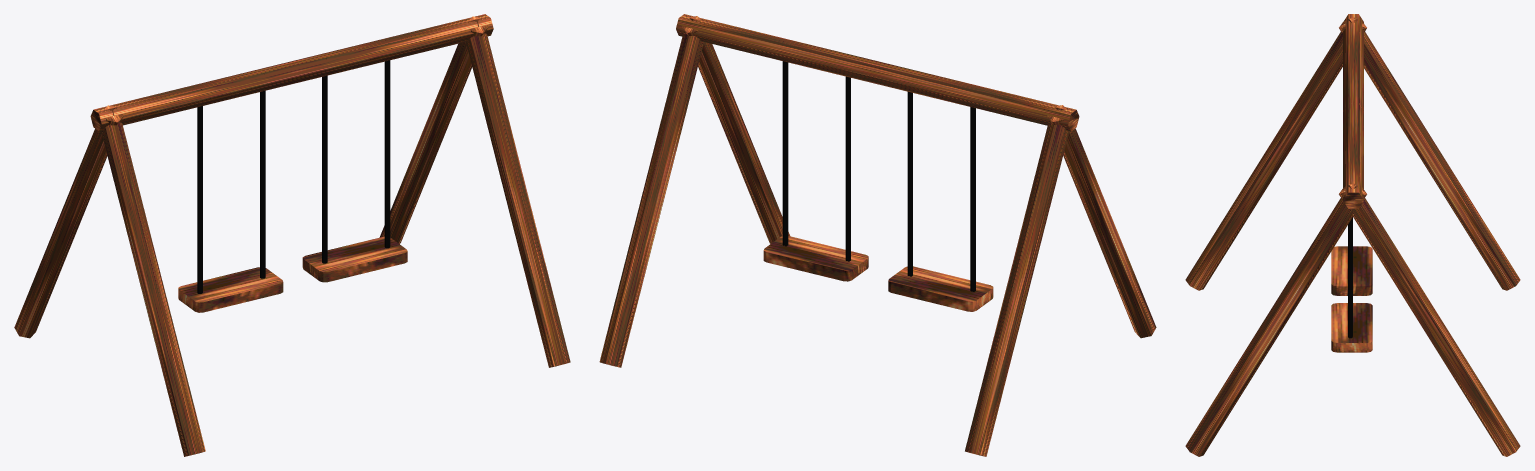
The model's file is SwingSet.fbx.
The picture shows the model from 3 angles, left to right: view 1: azimuth 30°, elevation 25°; view 2: azimuth 150°, elevation 25°; view 3: azimuth 270°, elevation 25°; orthographic projection. The views are drawn at different scales.
Parts seen in each view (by area): view 1: SwingSet; view 2: SwingSet; view 3: SwingSet.
Part boxes in pixels (box(x1,y1,x2,y2)): SwingSet: box(14, 14, 570, 456); SwingSet: box(599, 14, 1156, 456); SwingSet: box(1185, 14, 1520, 456).
Size of the model in its own units: 516 by 365 by 409.
